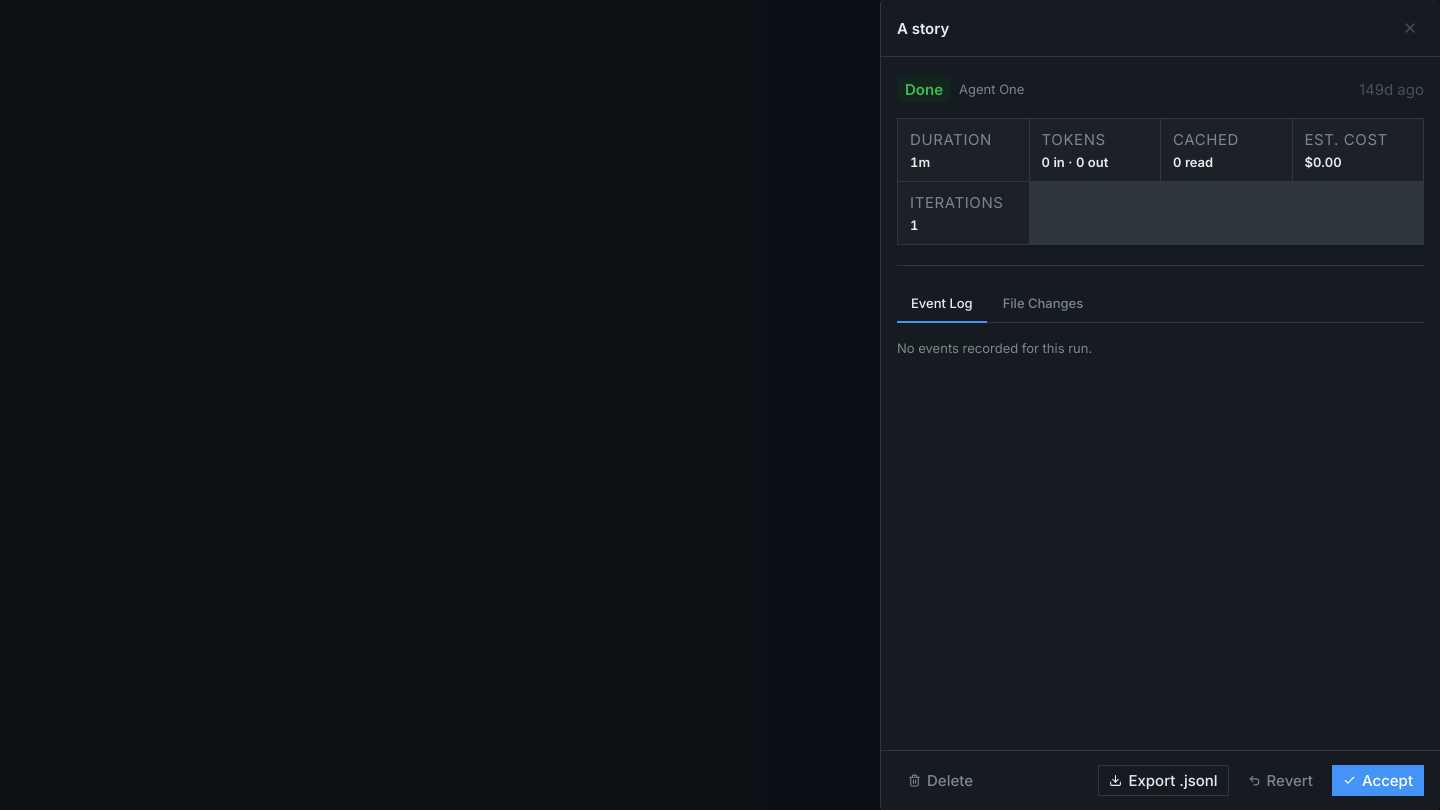
Test: RunDetailPanel run isolation › reverting confirms first, and says the user's tree is not touched
Click the button "Revert": (1280, 780) [1237,765,1324,796]
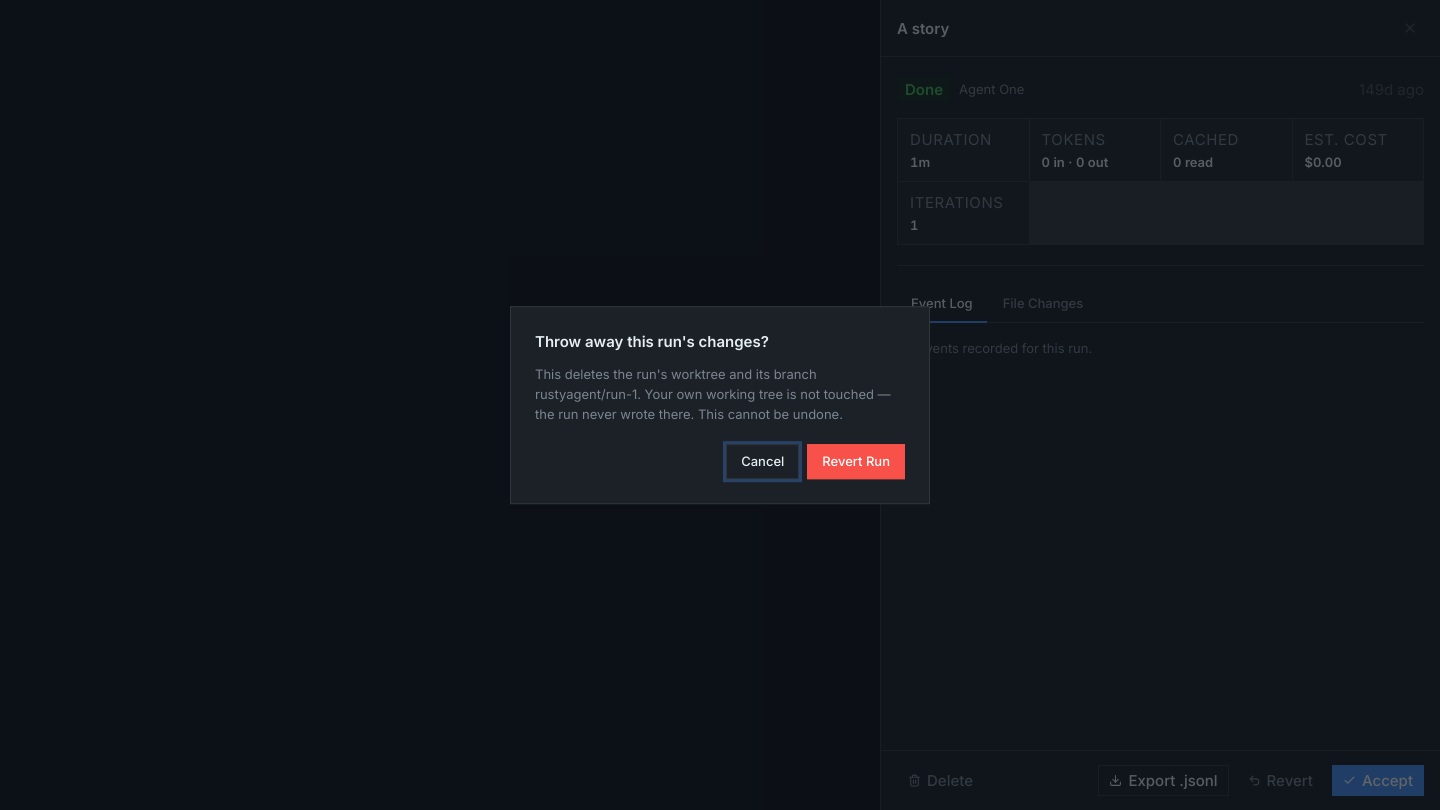
Now the heading "Throw away this run's changes?" is shown, box [535,332,769,351]
Now the text "never wrote there" is shown, box [535,366,891,422]
